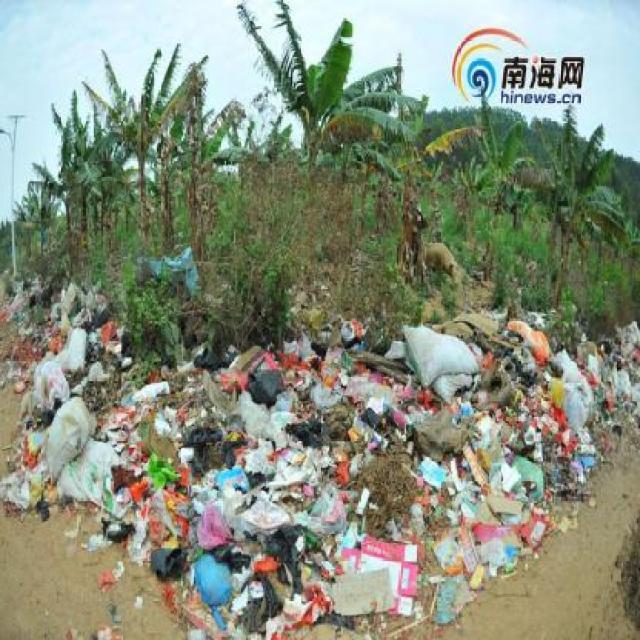garbage: (9, 282, 638, 623)
